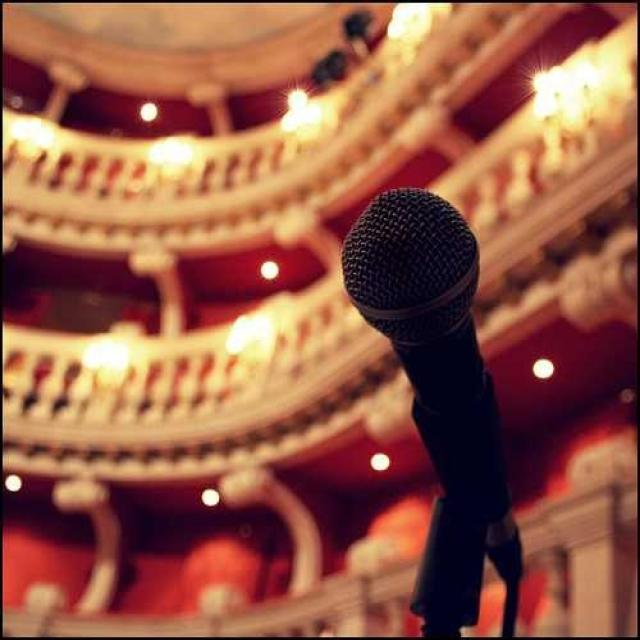microphone: (346, 195, 565, 510)
